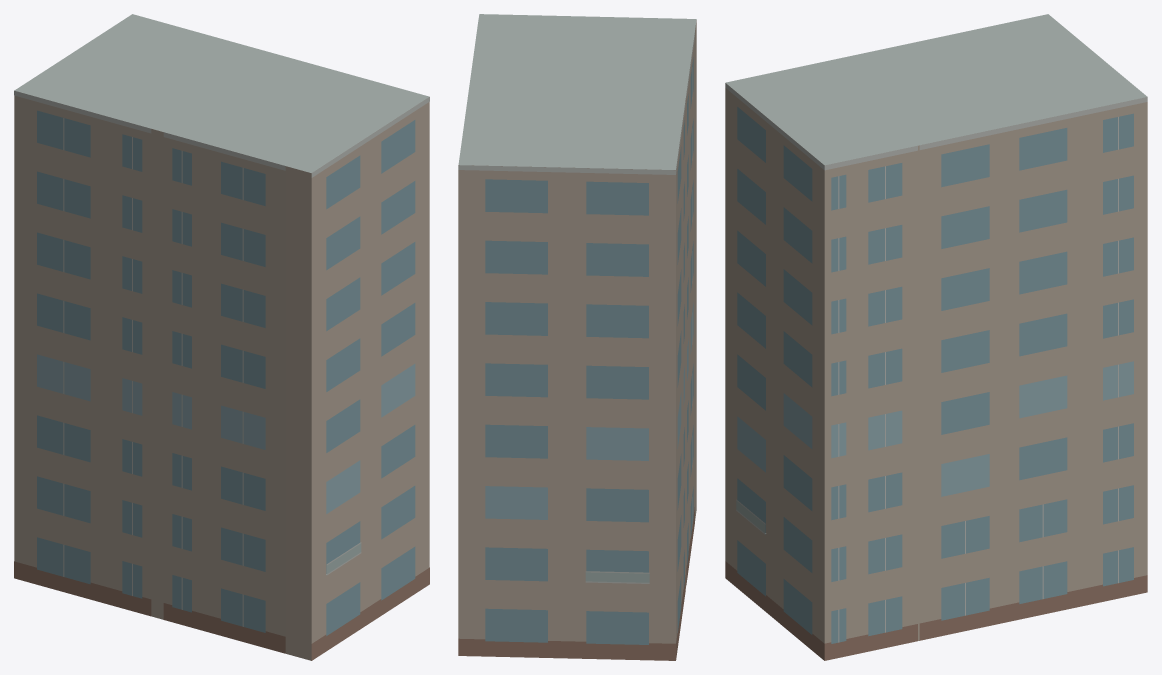
File: survey-upis-32905790.glb
3 renders of one model, left to right at view 1: azimuth 30°, elevation 25°; view 2: azimuth 150°, elevation 25°; view 3: azimuth 270°, elevation 25°, orthographic.
Visible parts, largest first — view 1: survey-upis-32905790.tmp; view 2: survey-upis-32905790.tmp; view 3: survey-upis-32905790.tmp.
Boxes of the visible parts, <box> form: survey-upis-32905790.tmp: <box>14,14,429,660</box>; survey-upis-32905790.tmp: <box>458,14,696,660</box>; survey-upis-32905790.tmp: <box>725,14,1147,660</box>.
Bounding box in the file's own units: 16 × 24.4 × 18.86.
